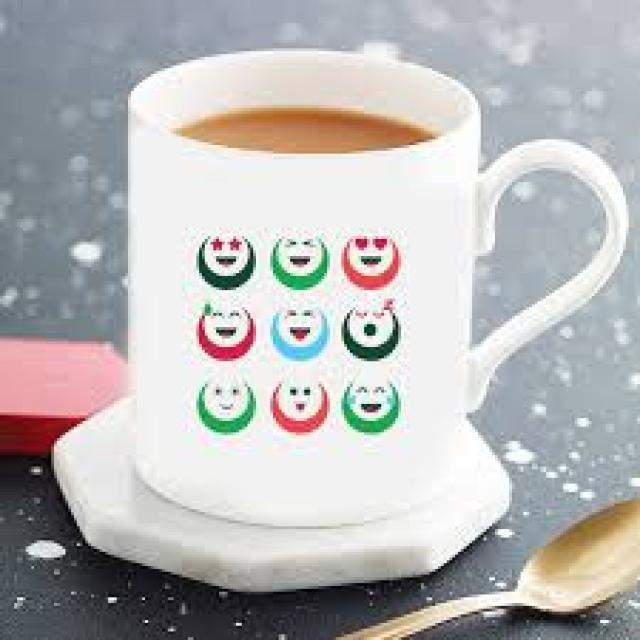taza: (128, 45, 628, 527)
